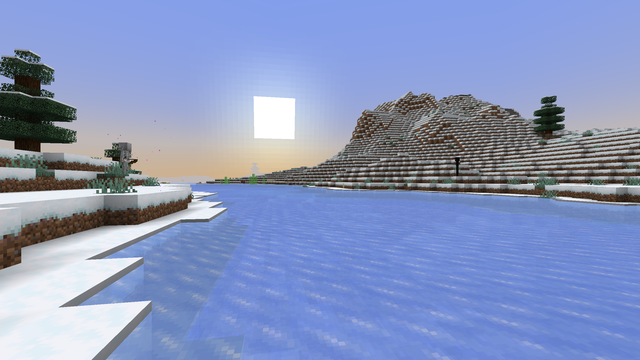endermens: (454, 156, 460, 171)
squelettes: (116, 142, 131, 173)
